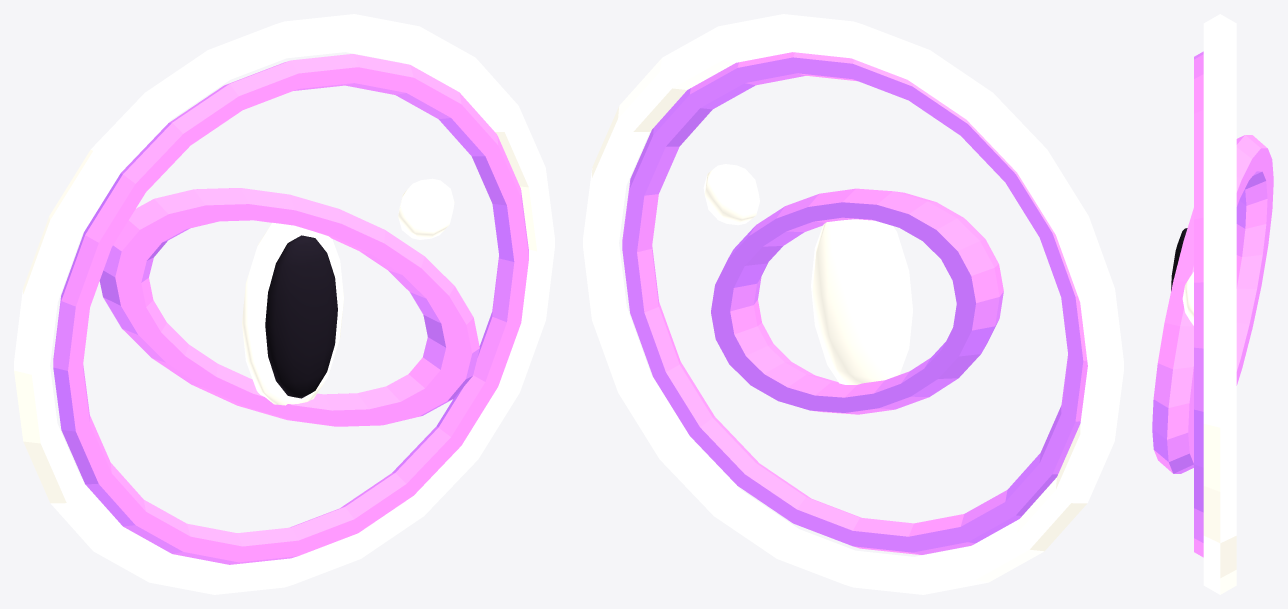
The model's file is combo-marker-berry-singularity.glb.
The picture shows the model from 3 angles, left to right: view 1: azimuth 30°, elevation 25°; view 2: azimuth 150°, elevation 25°; view 3: azimuth 270°, elevation 25°; orthographic projection. The views are drawn at different scales.
Parts seen in each view (by area): view 1: combo-marker-berry-singularity; view 2: combo-marker-berry-singularity; view 3: combo-marker-berry-singularity.
Boxes of the visible parts, left/top/right/bottom form: combo-marker-berry-singularity: left=14, top=14, right=554, bottom=594; combo-marker-berry-singularity: left=583, top=14, right=1123, bottom=594; combo-marker-berry-singularity: left=1152, top=14, right=1273, bottom=594.
Size of the model in its own units: 2.01 by 2.01 by 0.4197.
